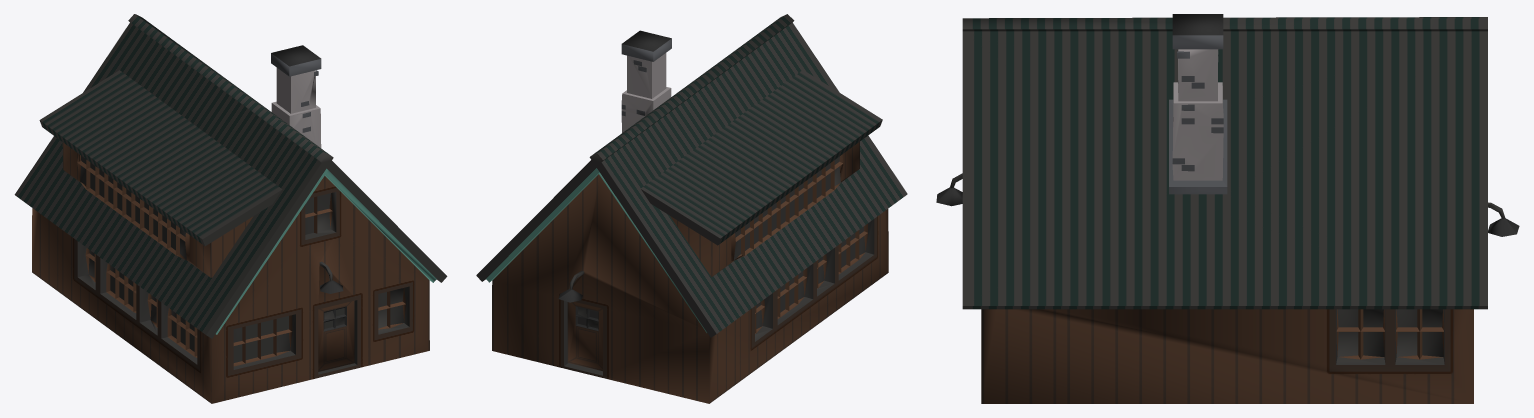
File: decimatedCabin0.7.glb
3 renders of one model, left to right at view 1: azimuth 30°, elevation 25°; view 2: azimuth 150°, elevation 25°; view 3: azimuth 270°, elevation 25°, orthographic. The views are drawn at different scales.
Visible parts, largest first — view 1: Cabin.003; view 2: Cabin.003; view 3: Cabin.003.
Part boxes in pixels (bbox=[...]): Cabin.003: bbox=[14, 14, 447, 403]; Cabin.003: bbox=[476, 14, 907, 403]; Cabin.003: bbox=[936, 14, 1519, 403].
Size of the model in its own units: 0.1219 by 0.1208 by 0.1863.
Materials: 1 (1 with a texture image).
